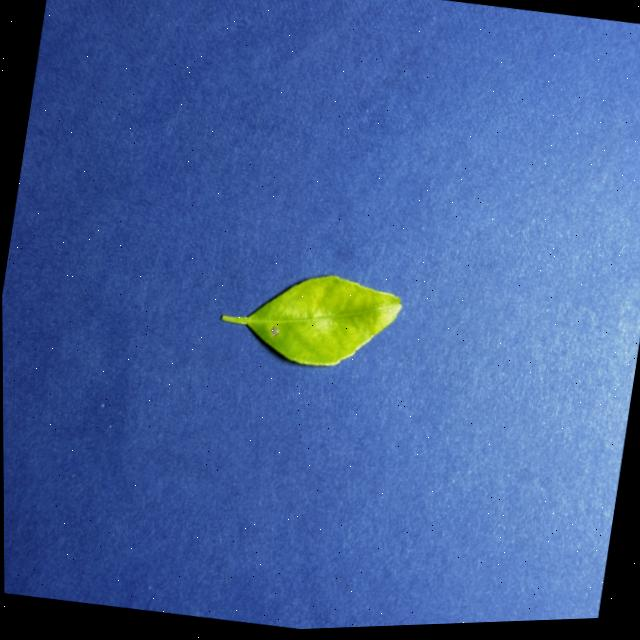greening: (222, 275, 401, 365)
